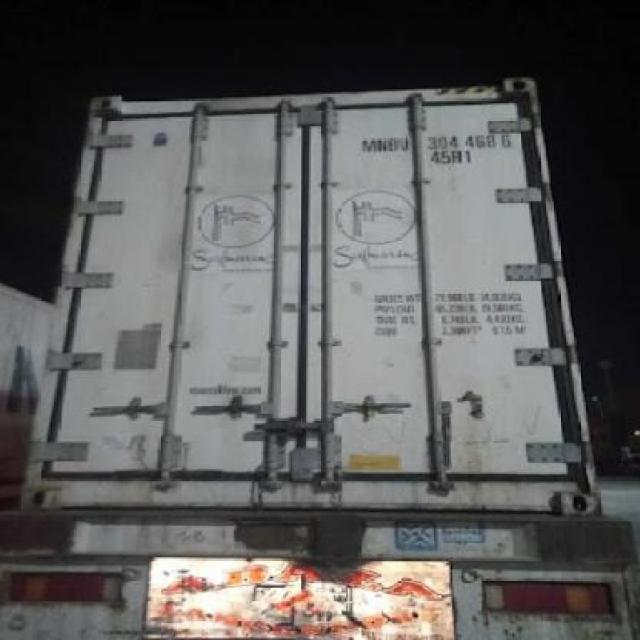ISO: (428, 148, 476, 164)
container_number: (357, 134, 517, 148)
